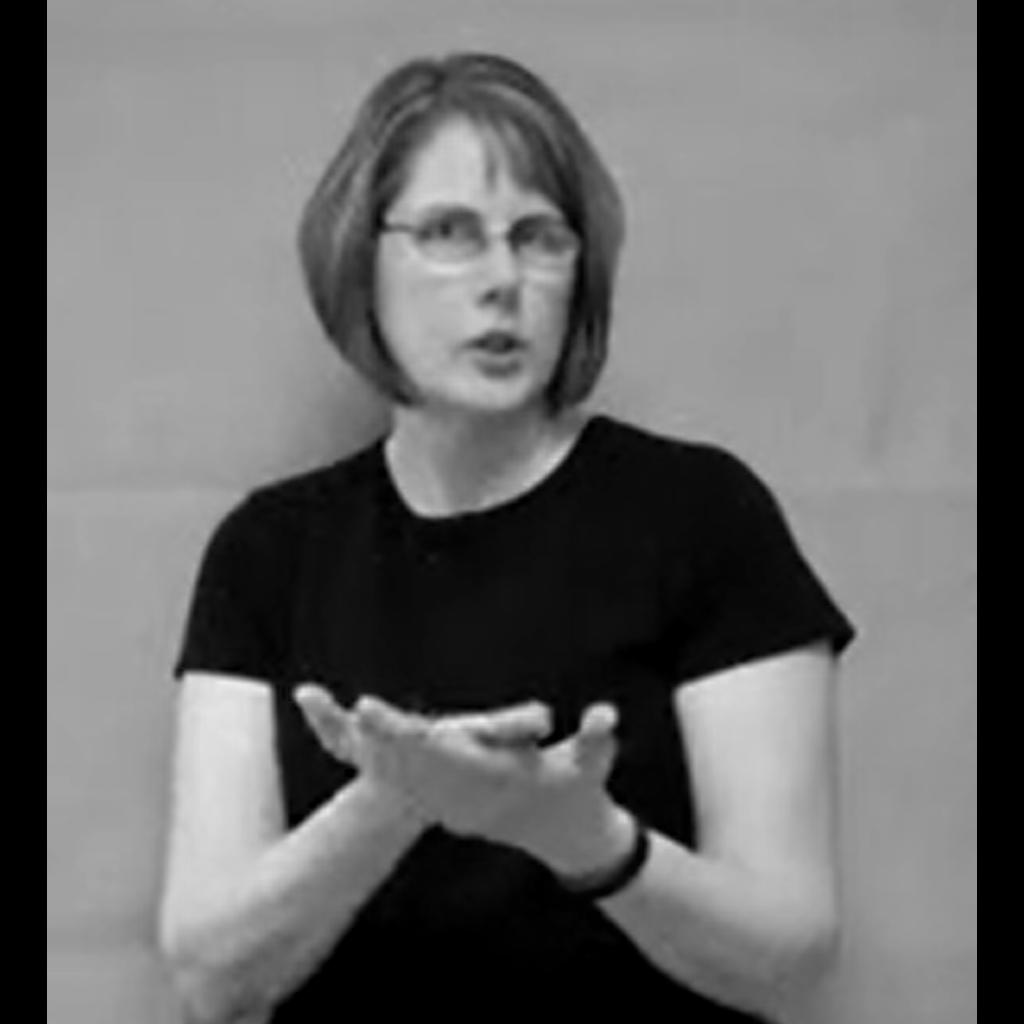good: (295, 683, 617, 835)
